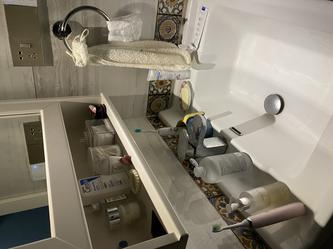switch: (17, 41, 33, 47)
